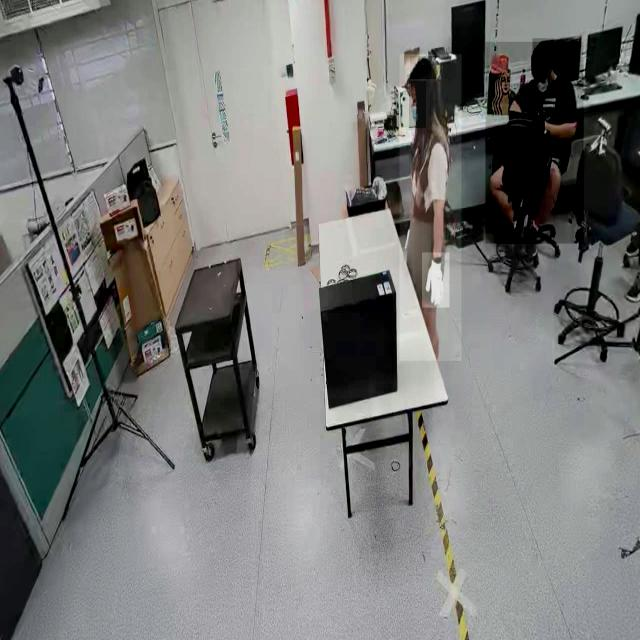face_mask: (533, 59, 555, 98), (409, 81, 426, 128)
hand_glove: (422, 252, 449, 308)
head_nohelmet: (410, 56, 436, 80), (532, 38, 554, 60)
person: (485, 42, 583, 244), (399, 54, 461, 362)
